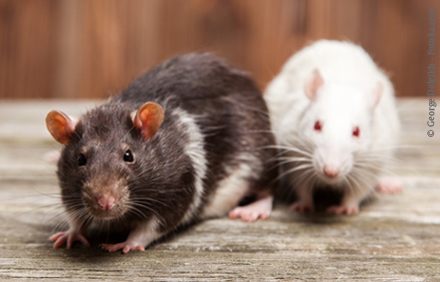rat: (40, 47, 257, 261), (262, 32, 416, 225)
